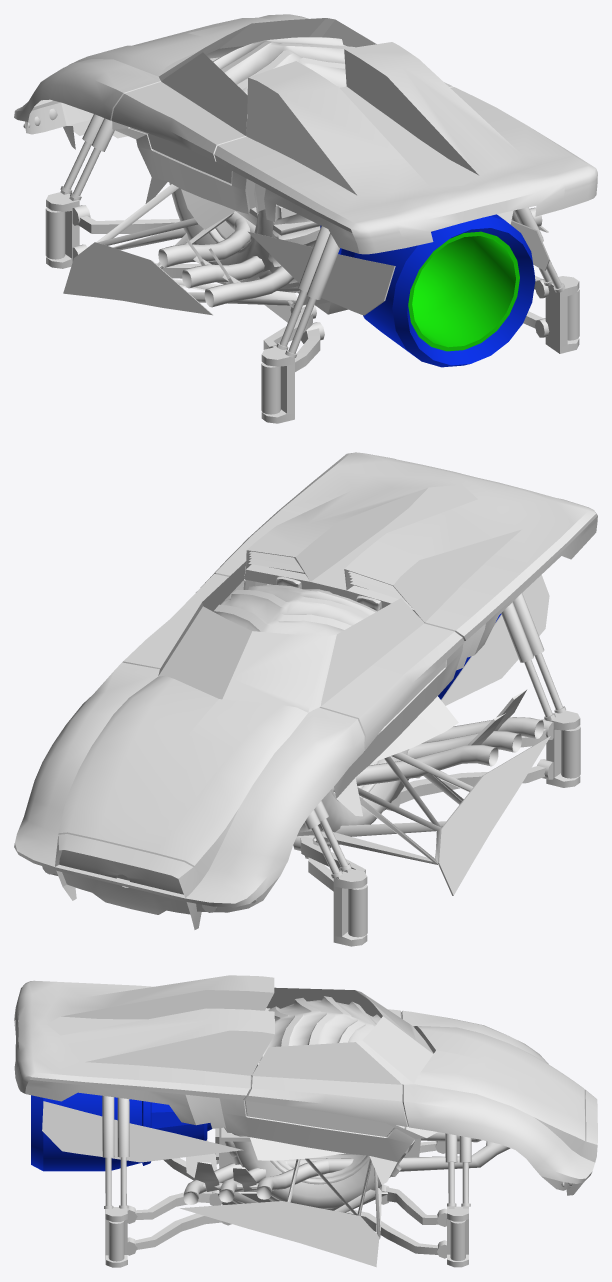
The model's file is MonsterTrack.fbx.
3 renders of one model, top to bottom at view 1: azimuth 30°, elevation 25°; view 2: azimuth 150°, elevation 25°; view 3: azimuth 270°, elevation 25°, orthographic. The views are drawn at different scales.
Visible parts, largest first — view 1: Hull, Thruster, Suspension, Tire, Glass, Dumpers, Exhaust, Armature, Rim; view 2: Hull, Glass, Suspension, Tire, Exhaust, Armature, Dumpers; view 3: Hull, Glass, Suspension, Tire, Thruster, Exhaust, Dumpers, Armature, Rim, Root.
Boxes of the visible parts, bbox=[...] form: Hull: bbox=[14, 14, 597, 322]; Thruster: bbox=[320, 214, 535, 367]; Suspension: bbox=[45, 190, 579, 423]; Tire: bbox=[169, 37, 354, 292]; Glass: bbox=[159, 18, 376, 135]; Dumpers: bbox=[60, 114, 565, 357]; Exhaust: bbox=[158, 207, 542, 307]; Armature: bbox=[96, 184, 297, 305]; Rim: bbox=[209, 211, 257, 253]; Hull: bbox=[14, 452, 597, 929]; Glass: bbox=[158, 561, 424, 712]; Suspension: bbox=[51, 710, 580, 946]; Tire: bbox=[213, 585, 409, 844]; Exhaust: bbox=[332, 717, 543, 791]; Armature: bbox=[313, 752, 473, 864]; Dumpers: bbox=[304, 593, 565, 878]; Hull: bbox=[14, 975, 597, 1267]; Glass: bbox=[252, 987, 433, 1084]; Suspension: bbox=[105, 1141, 468, 1267]; Tire: bbox=[224, 996, 415, 1210]; Thruster: bbox=[31, 1092, 212, 1171]; Exhaust: bbox=[183, 1132, 510, 1204]; Dumpers: bbox=[102, 1095, 471, 1208]; Armature: bbox=[203, 1158, 381, 1239]; Rim: bbox=[270, 1155, 369, 1184]; Root: bbox=[215, 1128, 420, 1191].
Bounding box in the file's own units: 463 × 297 × 754.
